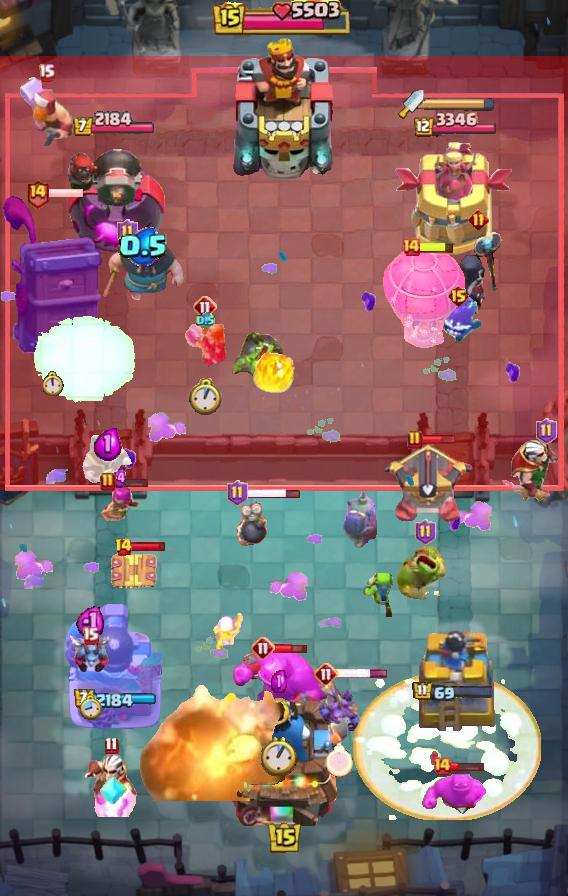bar: (395, 142, 514, 256)
bar-level: (228, 329, 286, 377)
cannon: (99, 483, 141, 527)
cannon-cart: (381, 243, 469, 351)
clock: (213, 0, 355, 38)
clone: (228, 645, 330, 729)
dart-goblin: (3, 195, 103, 357)
electro-spirit: (118, 227, 170, 266), (94, 427, 122, 462), (76, 603, 104, 636), (271, 671, 287, 694), (112, 467, 128, 489), (196, 312, 216, 329)
elixir: (261, 736, 297, 776), (189, 378, 223, 416), (327, 745, 354, 777), (78, 692, 102, 719), (43, 371, 64, 396)
emote: (246, 487, 301, 500), (335, 668, 389, 679), (419, 242, 455, 255), (272, 641, 307, 654), (47, 187, 84, 199), (129, 540, 166, 552), (114, 476, 149, 488), (451, 760, 486, 772), (421, 434, 456, 445)
flying-machine: (396, 546, 454, 600)
goblin-ball: (342, 483, 380, 551)
goblin-brawler: (110, 550, 158, 592)
heal-spirit: (212, 613, 244, 649)
hog-rider: (183, 323, 227, 371)
ice-golem: (234, 493, 270, 551)
king-tower: (221, 690, 347, 826), (228, 35, 340, 181)
king-tower-bar: (424, 97, 496, 111)
lava-pup: (381, 442, 473, 524)
lumberjack: (82, 435, 134, 489)
mega-knight: (32, 314, 138, 407)
mighty-miner: (17, 74, 75, 150)
pad_2: (99, 773, 127, 807)
phoenix-big: (353, 672, 541, 820)
queen-tower: (403, 621, 503, 731)
rascal-boy: (453, 231, 503, 319)
royal-delivery: (317, 678, 361, 734), (69, 635, 111, 673)
royal-hog: (98, 235, 188, 305)
selected: (412, 112, 497, 140), (72, 111, 156, 138), (72, 689, 155, 711), (412, 681, 494, 703)
skeleton-king: (496, 439, 568, 505), (83, 753, 139, 817)
spear-goblin: (432, 297, 484, 343)
text: (25, 179, 50, 210), (193, 295, 217, 319), (251, 636, 275, 660), (314, 662, 338, 686), (415, 519, 437, 545), (446, 284, 469, 308), (117, 219, 138, 245), (536, 418, 557, 444), (227, 480, 248, 506), (467, 210, 488, 231), (401, 237, 421, 257), (114, 537, 134, 557), (432, 756, 452, 776), (37, 63, 55, 81), (82, 626, 99, 645), (407, 430, 423, 450), (100, 472, 116, 492), (105, 736, 119, 755)
tornado: (421, 765, 491, 823)
tower-bar: (64, 601, 164, 731), (62, 138, 166, 256)
valkyrie: (125, 673, 285, 801), (247, 340, 299, 396)
zap: (361, 573, 399, 617)
